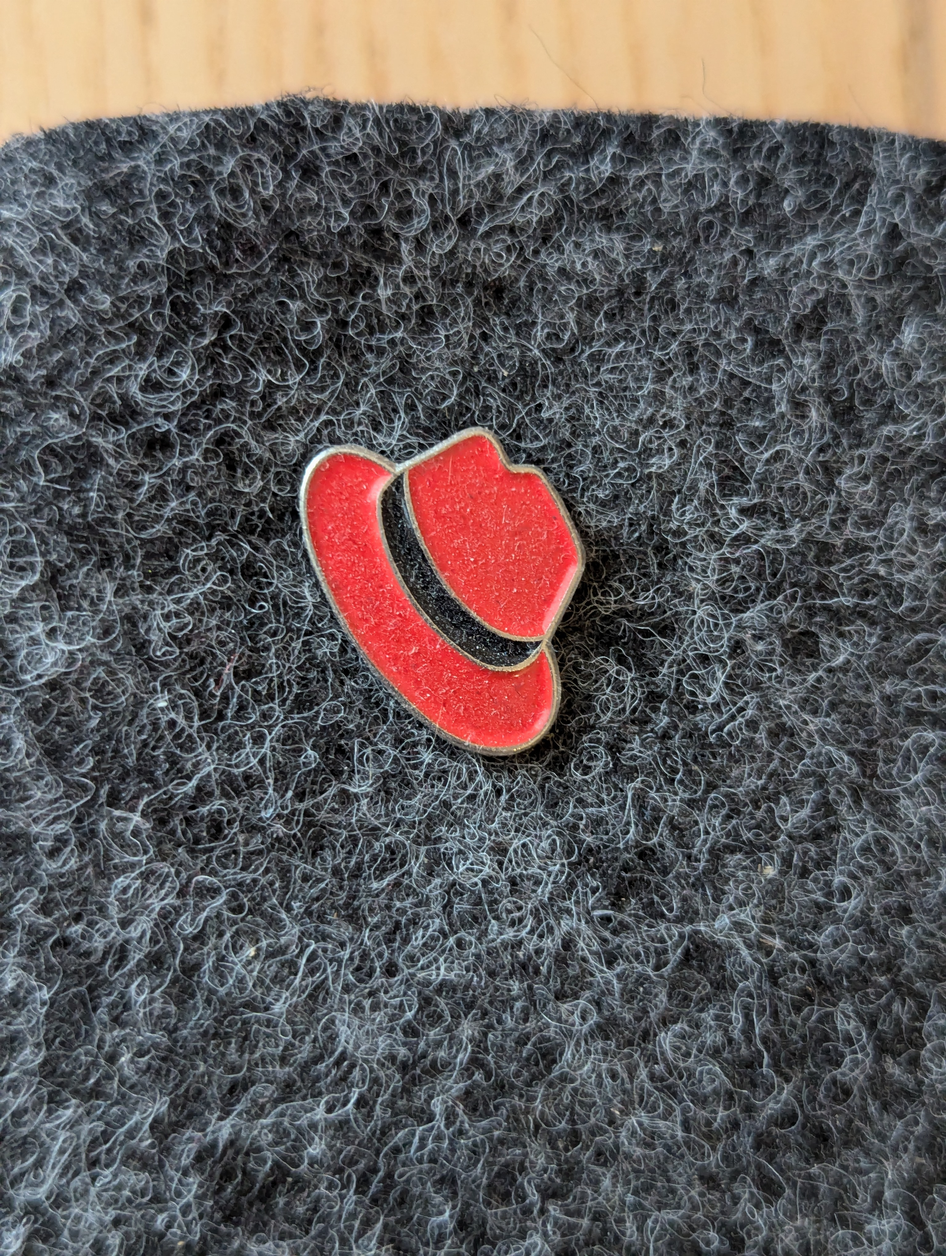Red-Hat: (211, 354, 745, 842)
